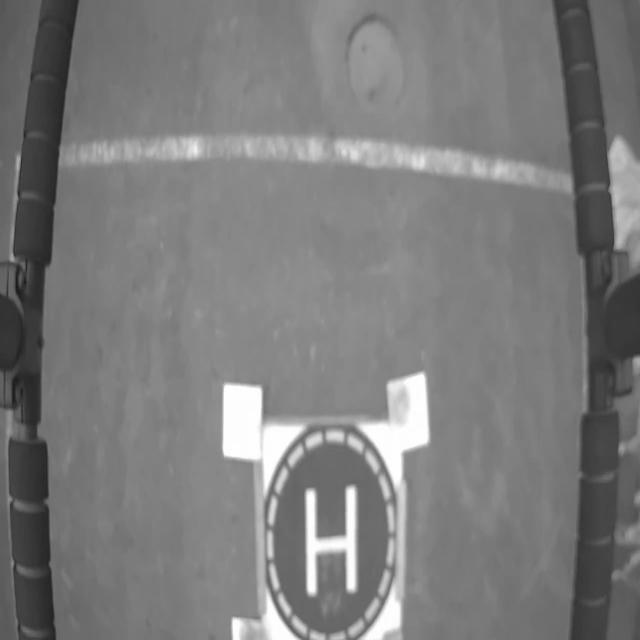Helipad: (304, 484, 358, 596)
